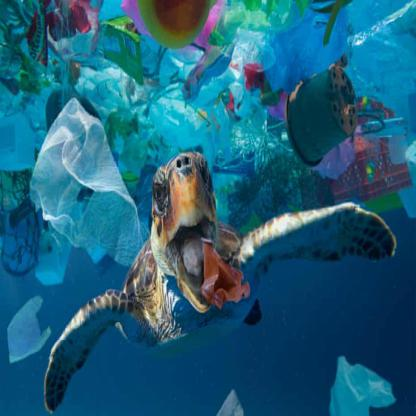plastic-bag: (7, 294, 51, 364)
waste: (31, 98, 138, 258), (286, 64, 359, 167), (329, 354, 397, 415), (200, 238, 251, 311)
